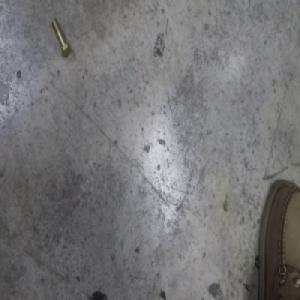Bolt: (50, 17, 71, 59)
